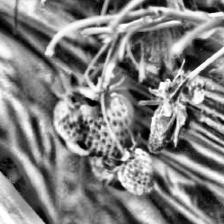Gray Mold: (138, 73, 191, 154)
